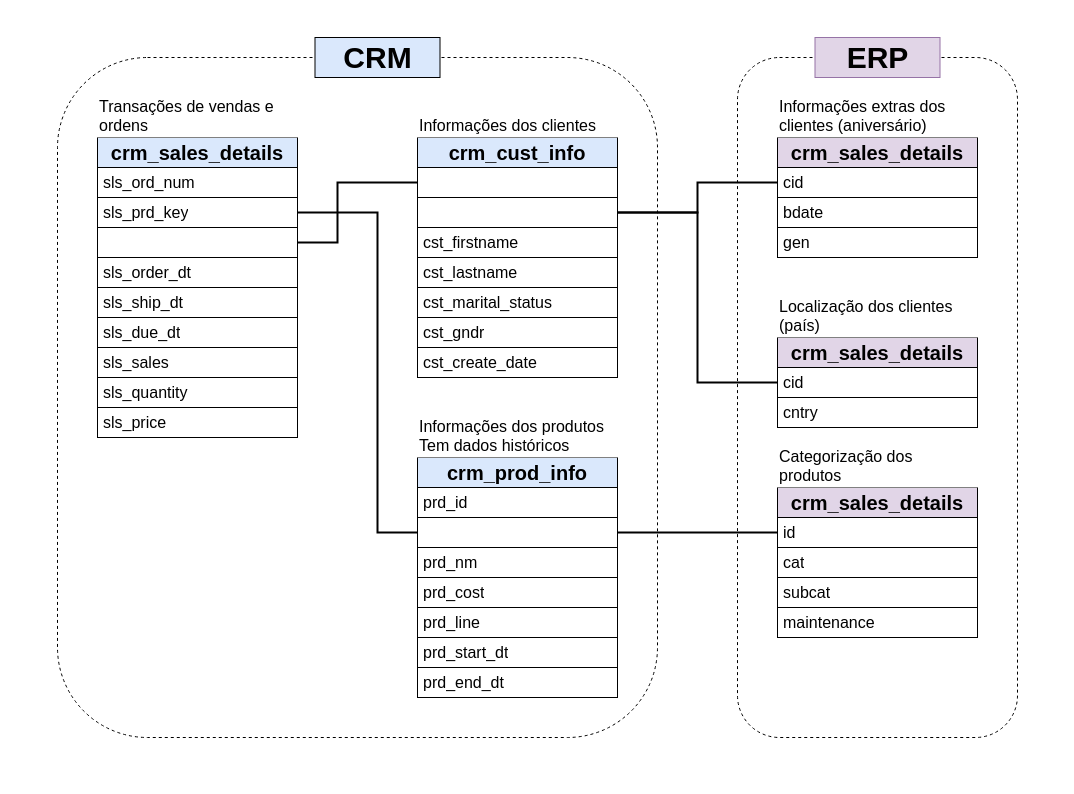
Some shapes in this 1074 by 794 pixel diagram are drawn without their labels. The centre of each missing label's shape, as x and y in pixels:
"cst_id" belongs at pixel 517 182.
"cst_key" belongs at pixel 517 212.
"prd_key" belongs at pixel 517 532.
"sls_cust_id" belongs at pixel 197 242.
